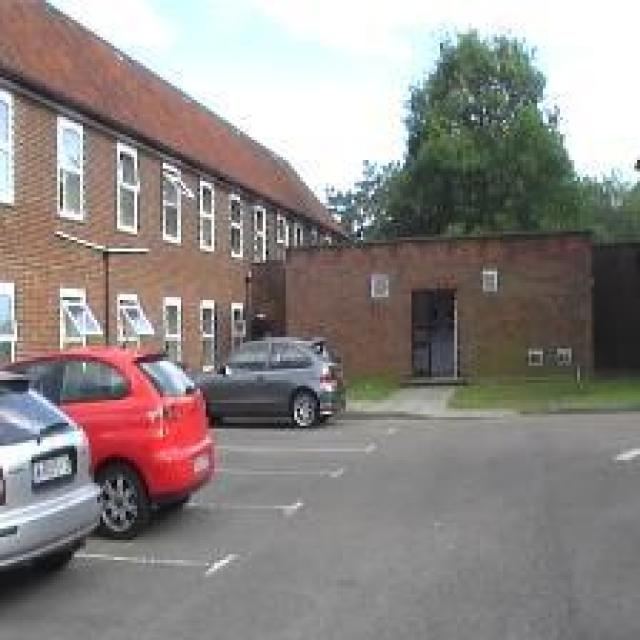other: (24, 328, 220, 504)
